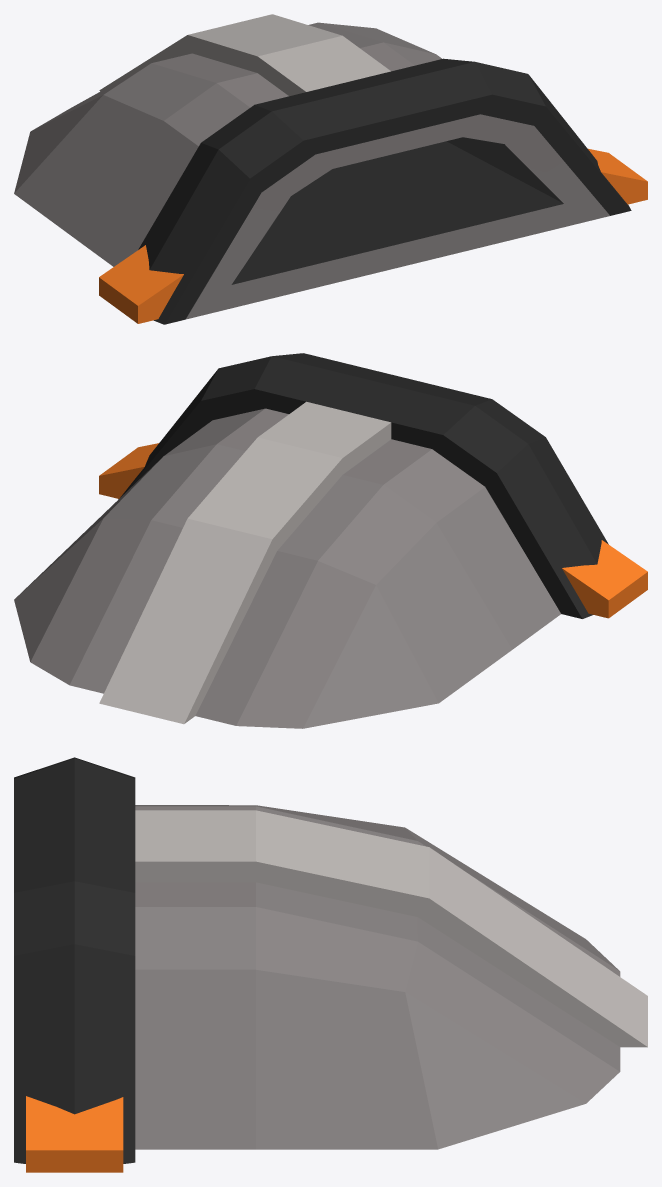
File: scifi_scifi-vent-end.fbx
The picture shows the model from 3 angles, top to bottom: view 1: azimuth 30°, elevation 25°; view 2: azimuth 150°, elevation 25°; view 3: azimuth 270°, elevation 25°; orthographic projection. The views are drawn at different scales.
Visible parts, largest first — view 1: scifi_scifi_vent_end; view 2: scifi_scifi_vent_end; view 3: scifi_scifi_vent_end.
Boxes of the visible parts, x1,y1,x2,y2 form: scifi_scifi_vent_end: (14, 14, 647, 324); scifi_scifi_vent_end: (14, 353, 647, 728); scifi_scifi_vent_end: (14, 757, 647, 1172).
Bounding box in the file's own units: 200 × 61.18 × 174.
